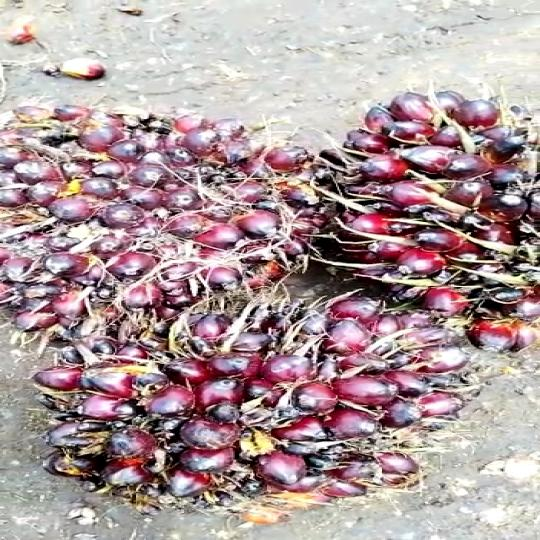kurang masak: (62, 276, 492, 540), (0, 95, 316, 331), (320, 76, 540, 356)
